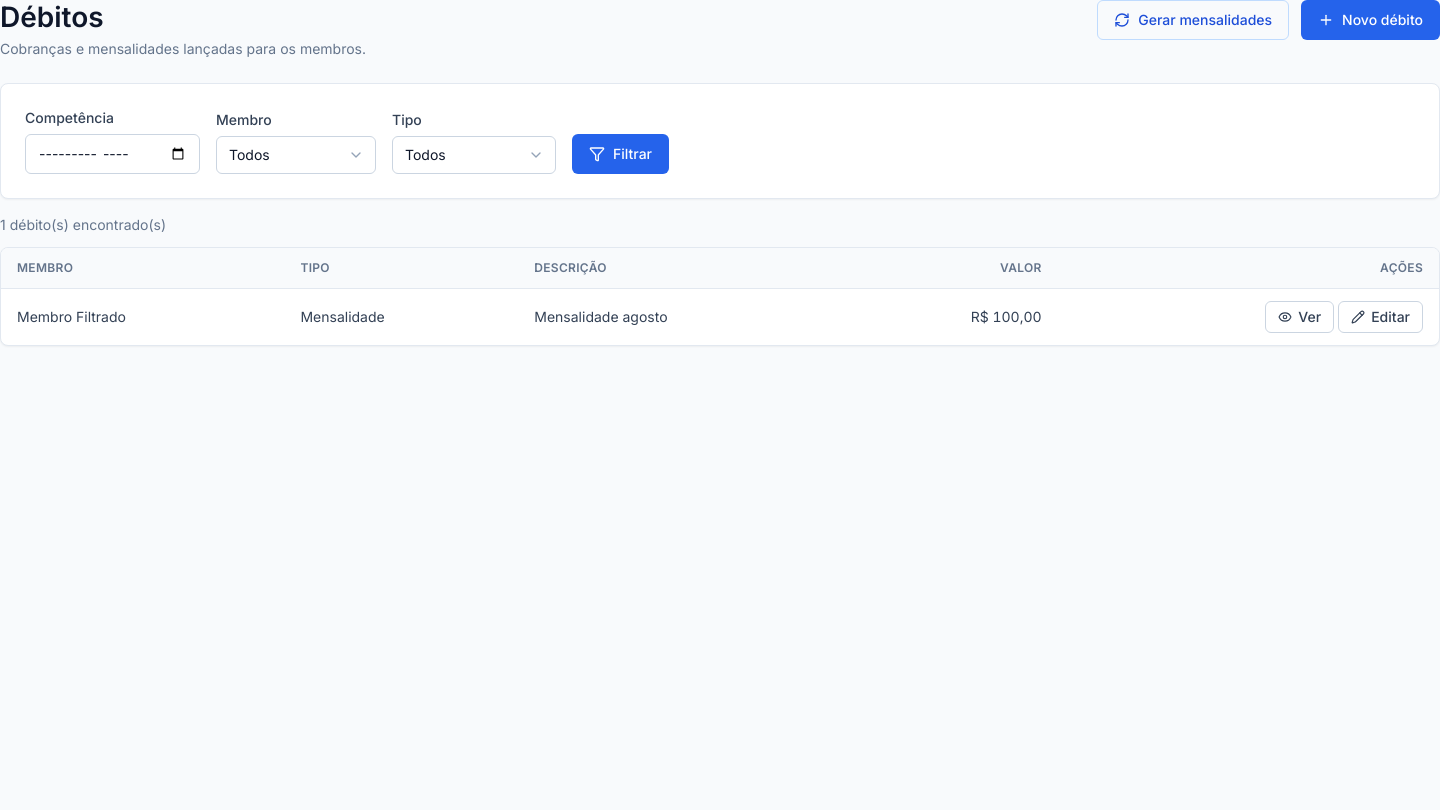
DebitosListPage — gerar mensalidades › prévia vazia informa que não há itens ativos (sem link)
Expected: the text "Mensalidade agosto" is shown, [518,288,851,345]
Type "2026-08" into the field labelled "Competência" at x=112, y=154, box [25,134,200,174]
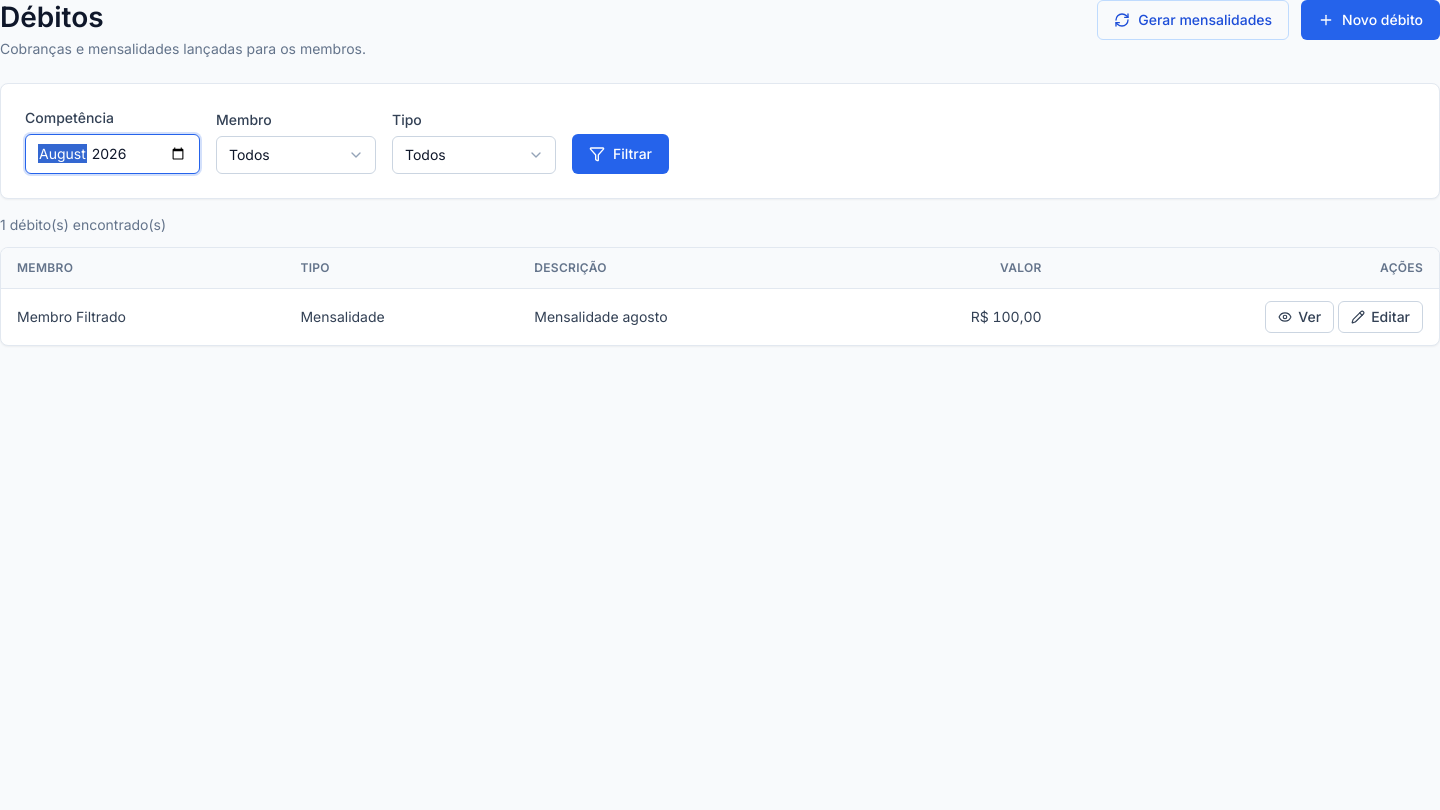
Click the button "Gerar mensalidades" at x=1193, y=20, box [1097,0,1289,40]
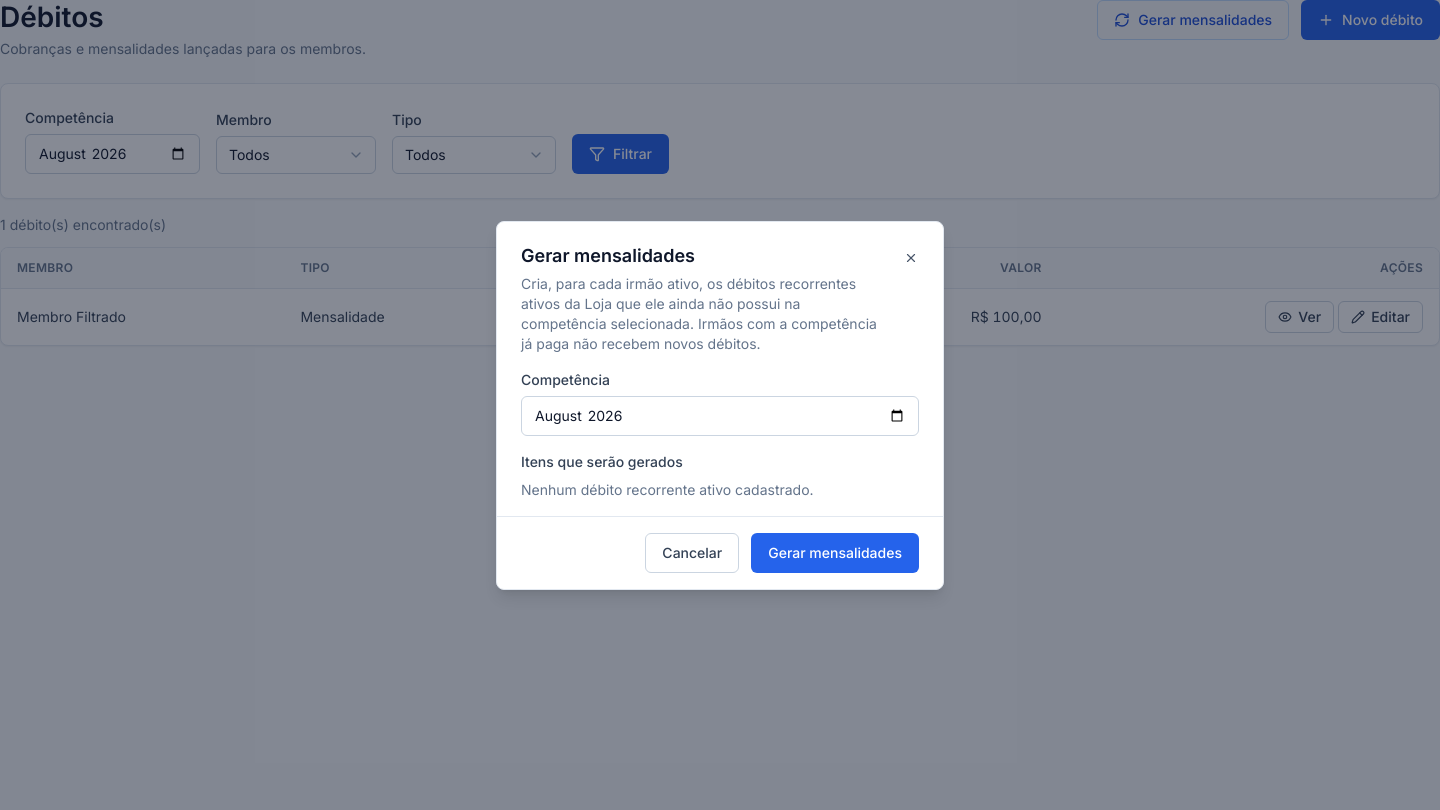
Expected: the text "Nenhum débito recorrente ativo cadastrado." is shown, [521,480,814,498]
